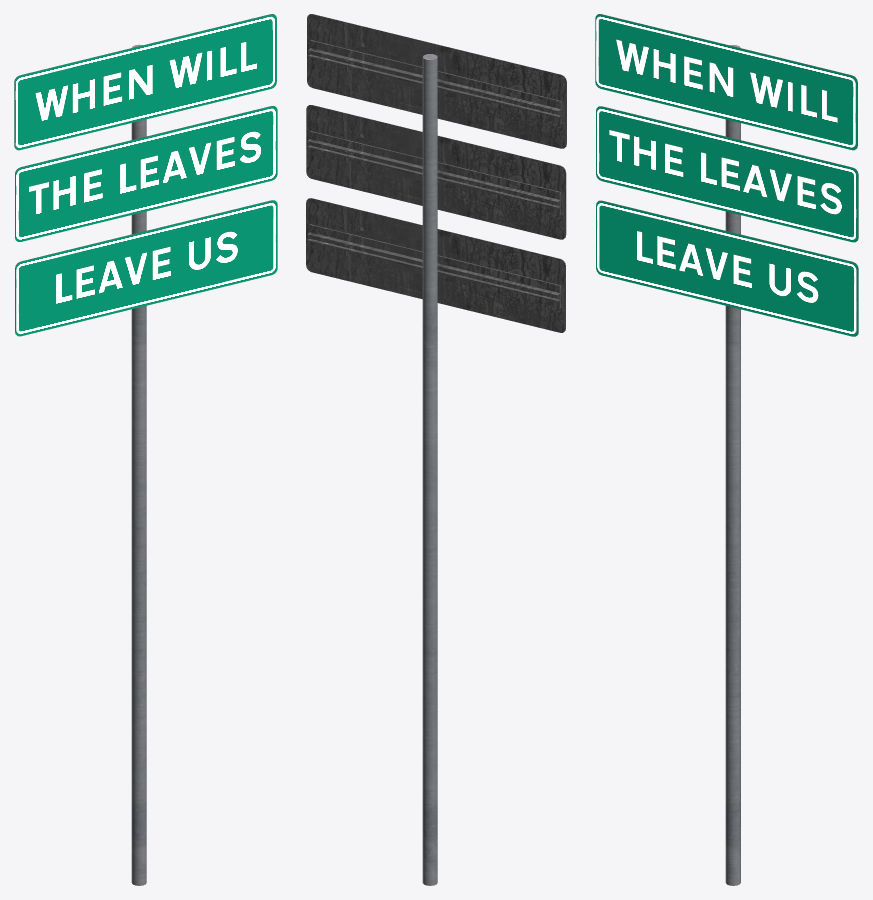
File: leaves-leave-us.gltf
3 views of the same model, side by side, from view 1: azimuth 30°, elevation 25°; view 2: azimuth 150°, elevation 25°; view 3: azimuth 330°, elevation 25° (orthographic).
Parts seen in each view (by area): view 1: Sign_S_1.5_.006, Sign_S_1.5_.003, Sign_S_1.5_.005, PoleA_50.8_2800mm_A_.014; view 2: Sign_S_1.5_.003, Sign_S_1.5_.005, Sign_S_1.5_.006, PoleA_50.8_2800mm_A_.014; view 3: Sign_S_1.5_.006, Sign_S_1.5_.005, Sign_S_1.5_.003, PoleA_50.8_2800mm_A_.014.
Boxes of the visible parts, x1=… form: Sign_S_1.5_.006: x1=15, y1=200, x2=277, y2=336; Sign_S_1.5_.003: x1=14, y1=14, x2=276, y2=150; Sign_S_1.5_.005: x1=15, y1=106, x2=277, y2=241; PoleA_50.8_2800mm_A_.014: x1=131, y1=44, x2=146, y2=885; Sign_S_1.5_.003: x1=307, y1=14, x2=566, y2=148; Sign_S_1.5_.005: x1=306, y1=105, x2=566, y2=239; Sign_S_1.5_.006: x1=306, y1=198, x2=565, y2=332; PoleA_50.8_2800mm_A_.014: x1=422, y1=54, x2=437, y2=885; Sign_S_1.5_.006: x1=596, y1=200, x2=858, y2=336; Sign_S_1.5_.005: x1=596, y1=106, x2=858, y2=242; Sign_S_1.5_.003: x1=595, y1=14, x2=857, y2=150; PoleA_50.8_2800mm_A_.014: x1=725, y1=45, x2=740, y2=885.
Size of the model in its own units: 0.6919 by 2.12 by 0.0477.
7 materials, 7 textured.
